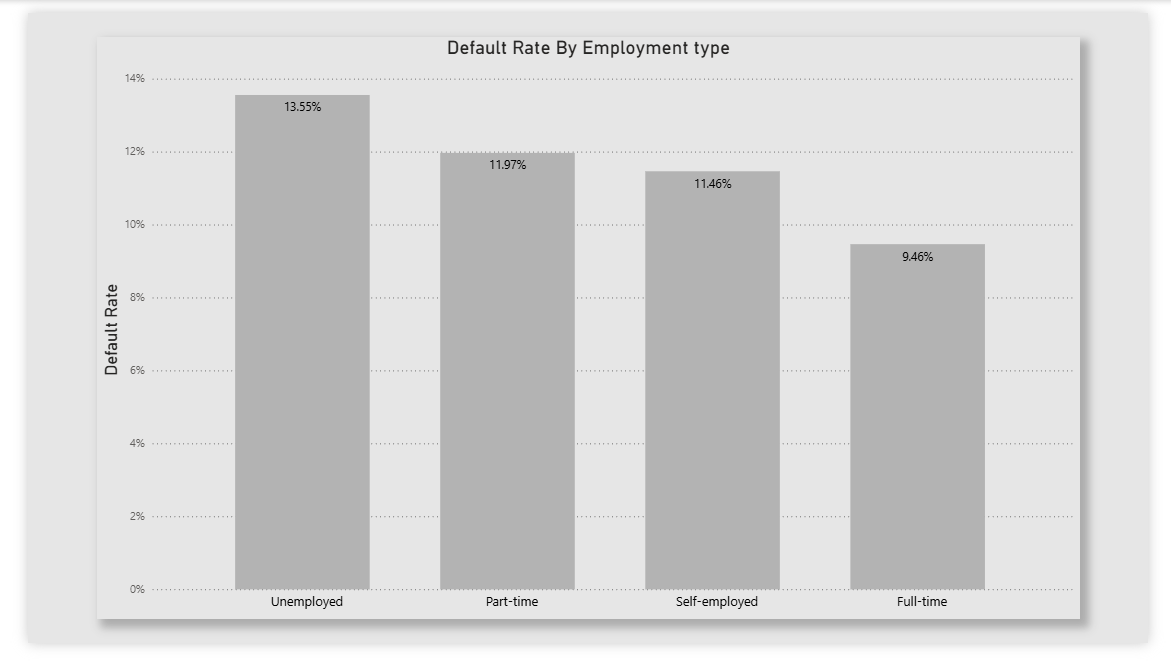

This screenshot's page, from the dashboard's own definition file:
{"tool":"powerbi","page":{"name":"Deafult Rate by Employment Type","canvas":[1280,720],"ordinal":1},"visuals":[{"type":"columnChart","title":"Default Rate By Employment type","fields":{"Category":["clean_loans.employmenttype"],"Y":["clean_loans.default Rate"]},"box":[78.6,27.1,1124.3,665.7],"z":0}]}

Visuals, with their boxes in screenshot pixels (x1, y1, x2, y2), scaled from the page's 1280x720 canvas onto the 1171x672 screenshot:
"Default Rate By Employment type" columnChart: x1=72 y1=25 x2=1100 y2=647
